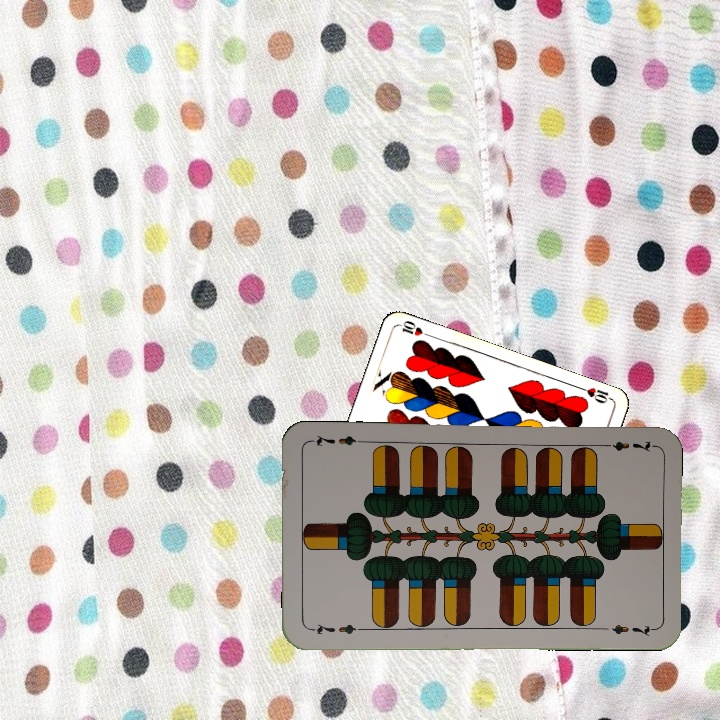E7: (306, 619, 365, 637), (597, 437, 656, 455)
H10: (575, 383, 614, 406)
